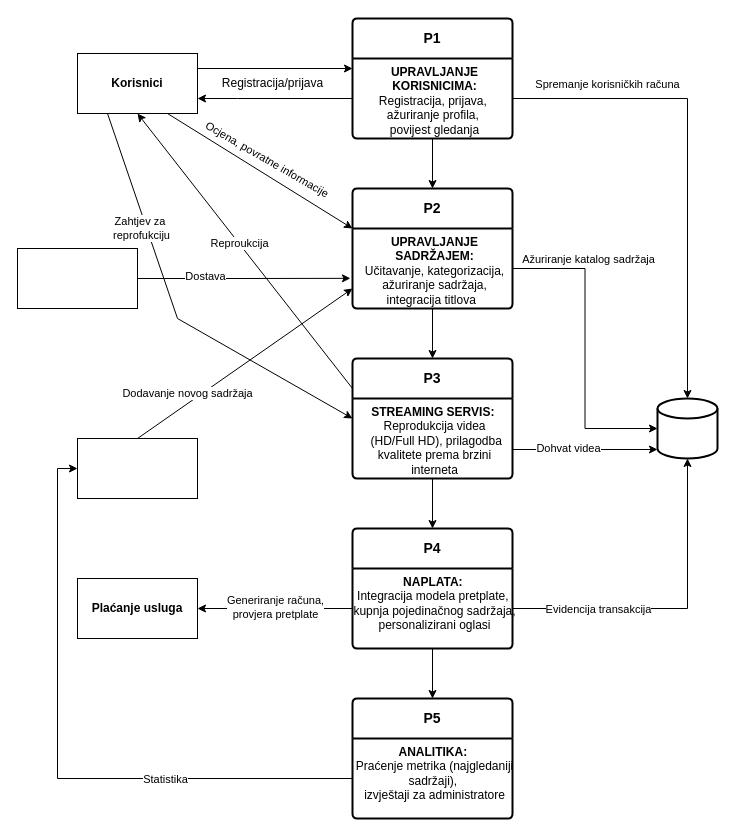
Image size: 736x836. Some labels were removed from this diagram. Here are the shapes that lost their labels. From the top down, the centre of each, then its label:
At point 77,278: "Dobavljač sadržaja".
At point 687,428: "Baza podatak".
At point 137,468: "Administrator".
